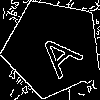A: (28, 23, 85, 80)
